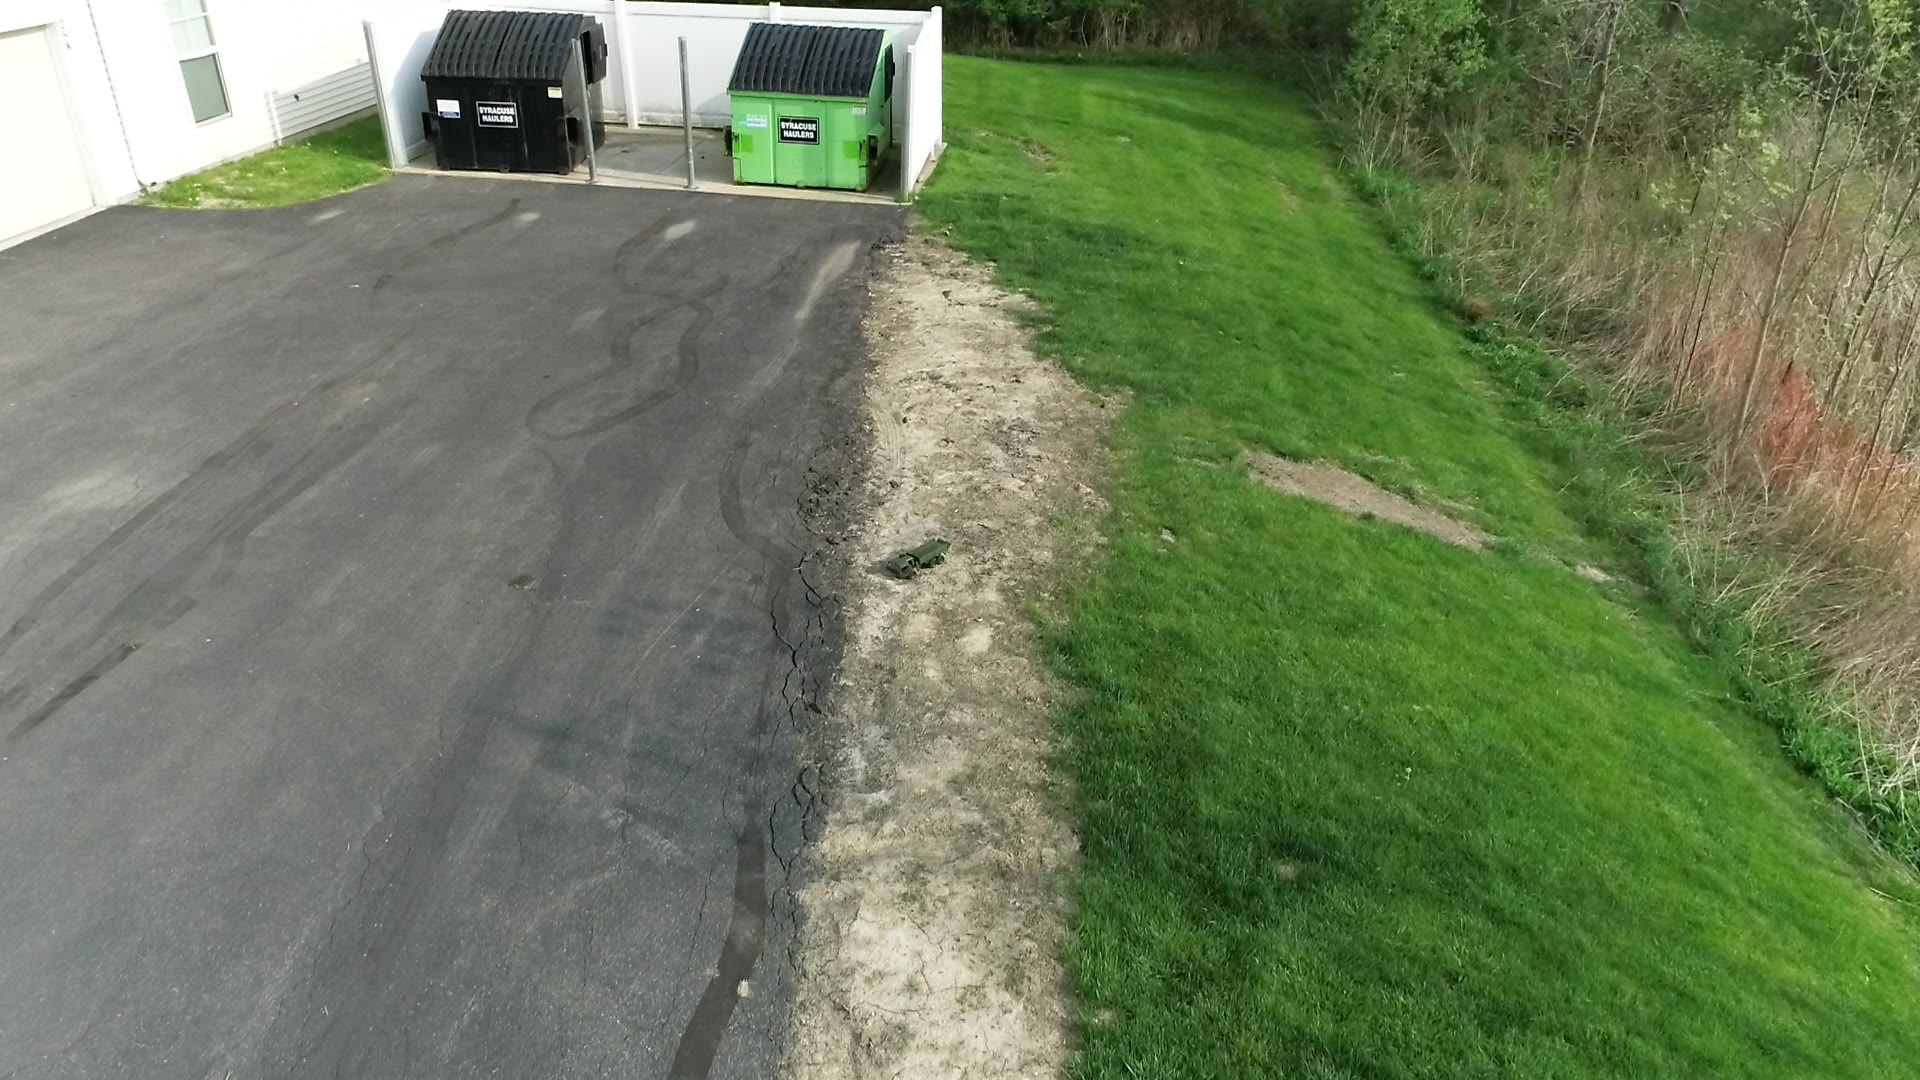transporter9: (882, 534, 952, 582)
